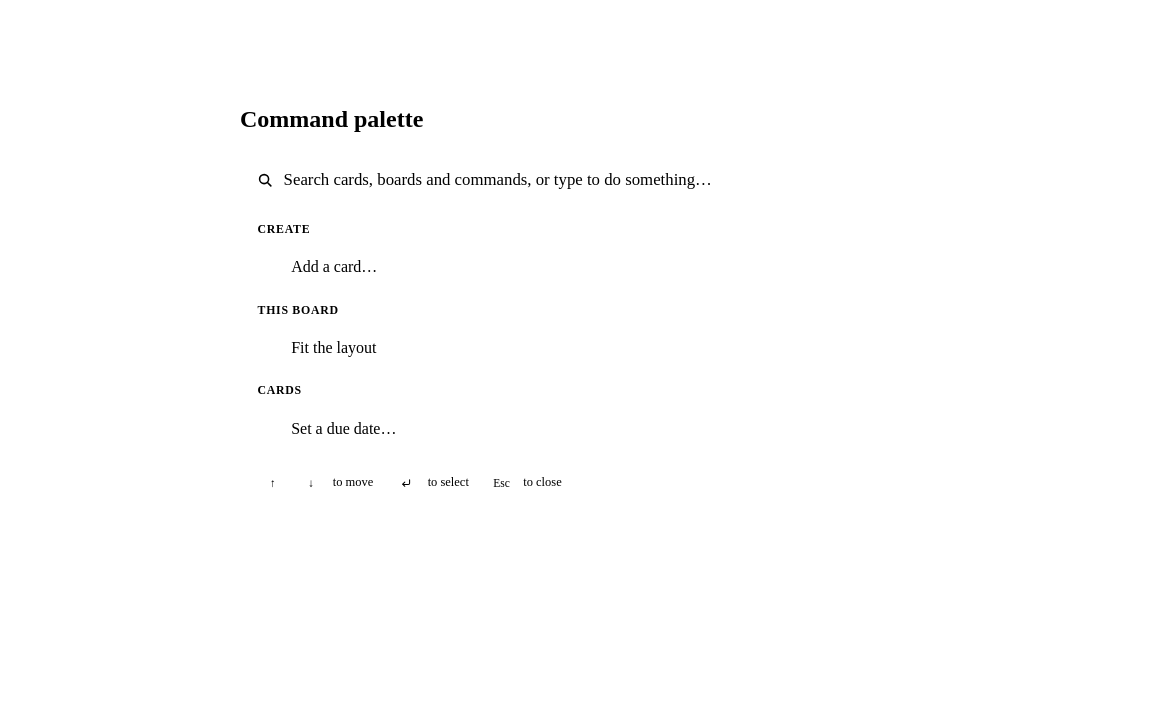
Test: CommandPalette › refuses an empty answer unless an empty one is allowed
The image size is (1152, 720).
Type "add a card" into the dropdown named "Search commands" at [590, 180], box [284,153,896,208]
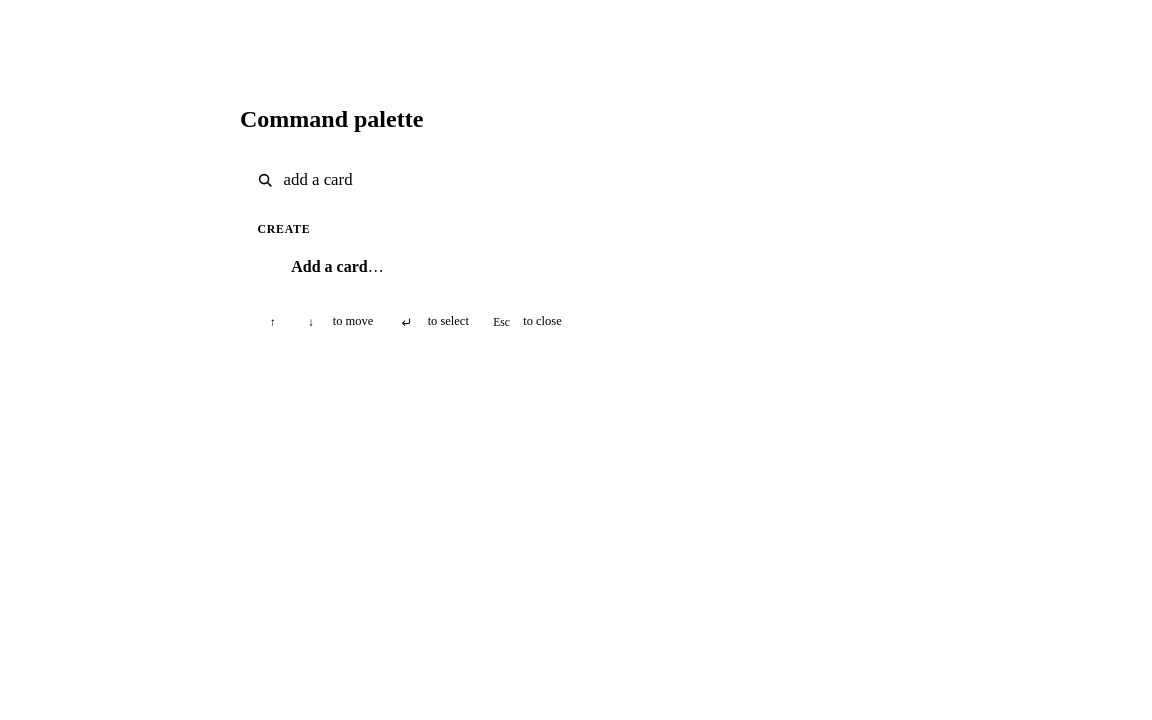
Press Enter in the dropdown named "Search commands", box [284,153,896,208]
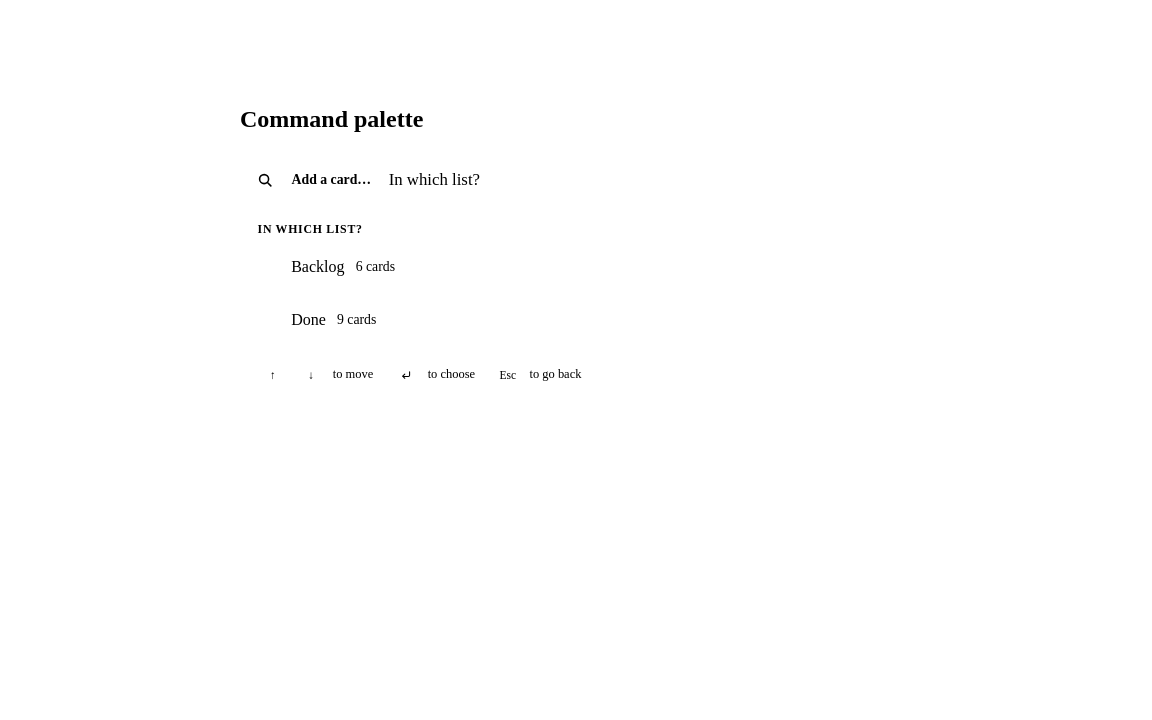
Press Enter in the dropdown labelled "In which list?", box [389,153,896,208]
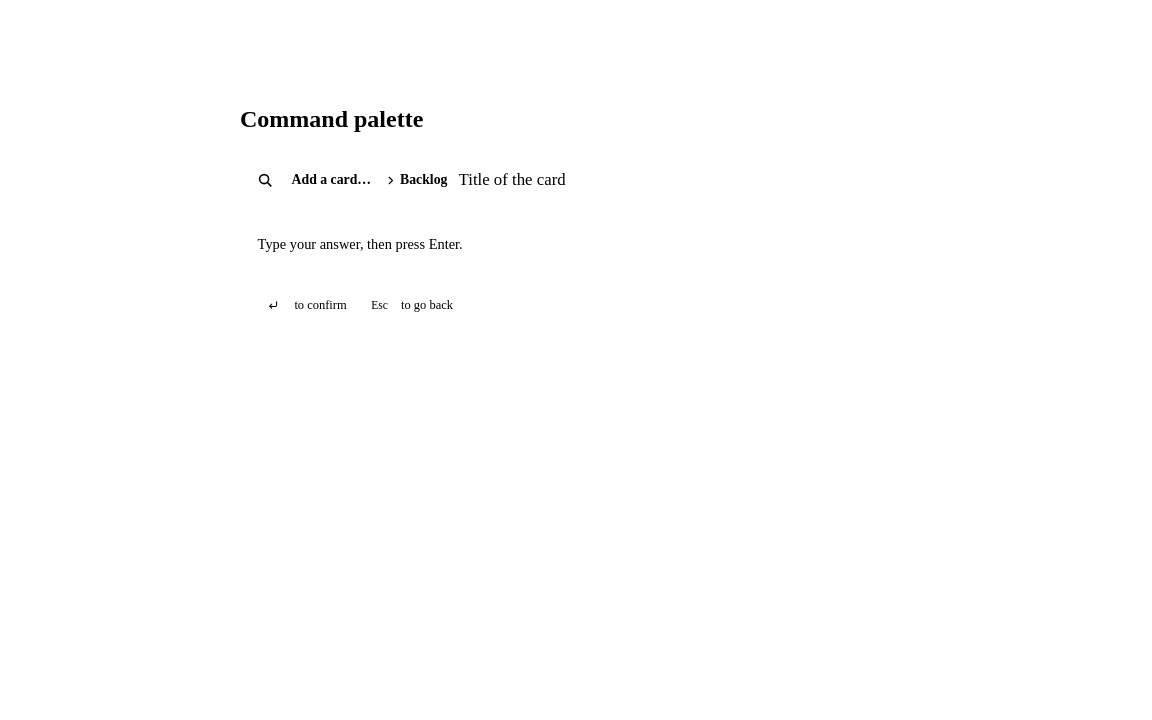
Press Enter in the field labelled "Title of the card", box [459,153,896,208]
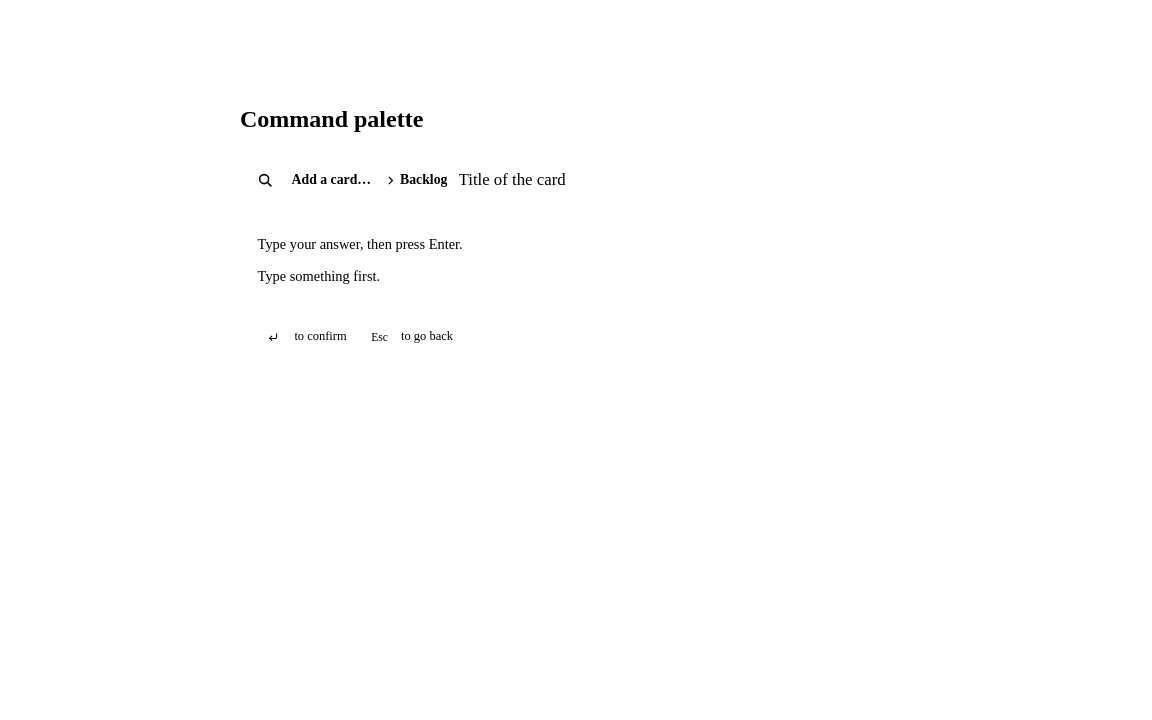
Result: the message reads "Type something first." at [258,268,380,284]
